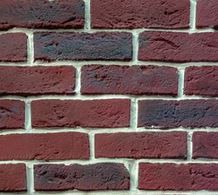brick: (30, 98, 132, 129), (32, 161, 130, 192), (33, 30, 133, 60), (80, 65, 179, 94), (89, 1, 191, 29), (1, 131, 89, 160), (1, 63, 77, 96), (94, 132, 187, 158), (1, 1, 86, 29), (137, 32, 217, 61), (137, 162, 218, 190), (137, 99, 217, 127), (184, 65, 218, 97), (1, 32, 29, 60), (192, 129, 218, 159), (1, 100, 26, 131), (1, 162, 26, 193)
